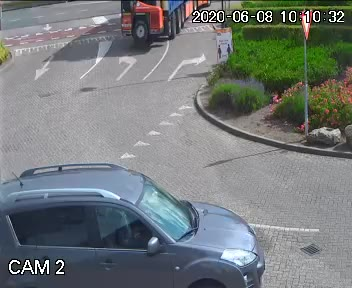car: (0, 148, 269, 288), (105, 0, 218, 59)
